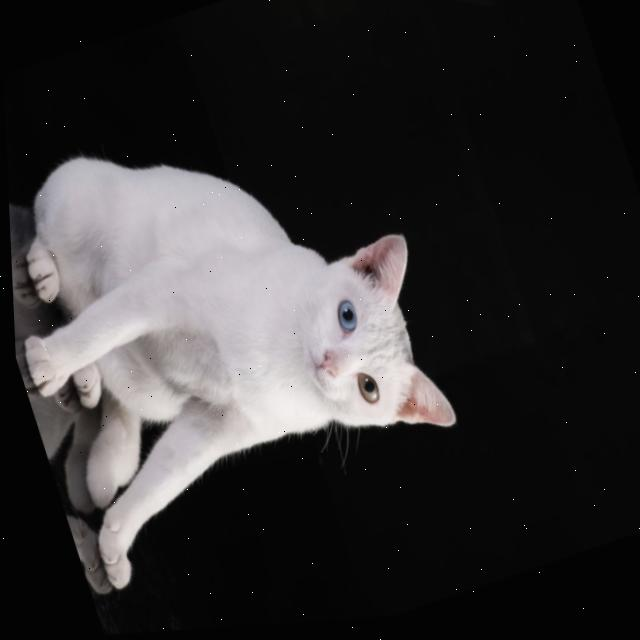Khao Manee: (3, 57, 480, 610)
